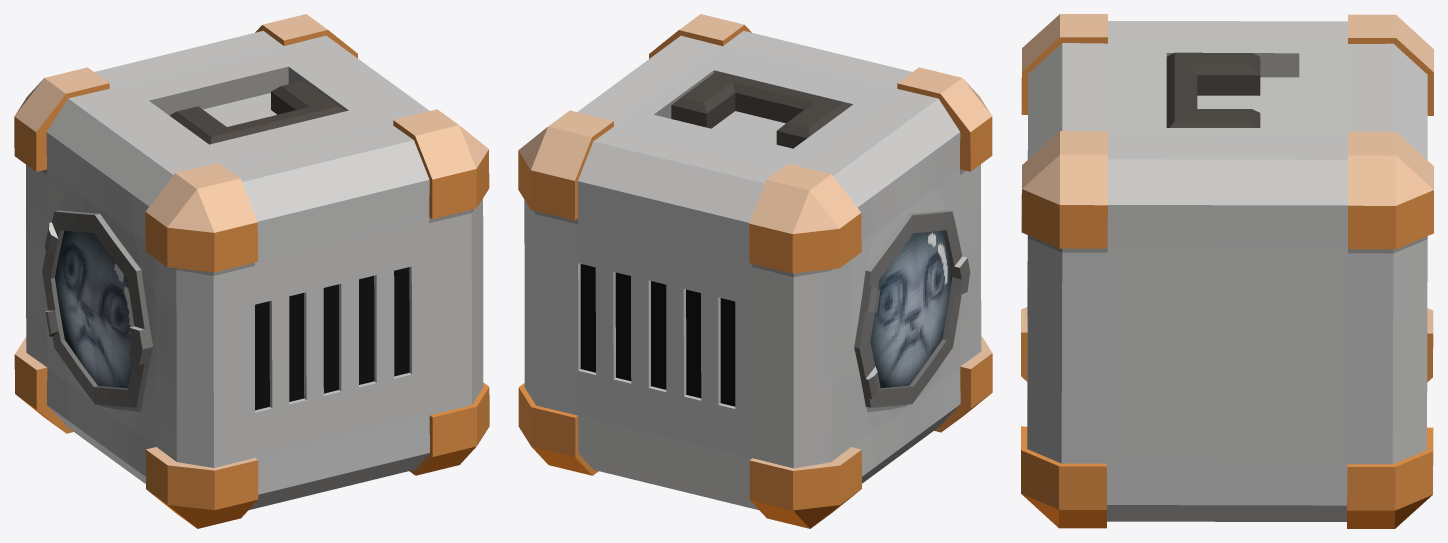
File: cat_box.fbx
The picture shows the model from 3 angles, left to right: view 1: azimuth 30°, elevation 25°; view 2: azimuth 150°, elevation 25°; view 3: azimuth 270°, elevation 25°; orthographic projection. The views are drawn at different scales.
Visible parts, largest first — view 1: Cube; view 2: Cube; view 3: Cube.
Boxes of the visible parts, x1,y1,x2,y2 form: Cube: (14, 14, 489, 528); Cube: (518, 14, 992, 528); Cube: (1021, 14, 1433, 528).
Size of the model in its own units: 50.02 by 50.11 by 50.11.
